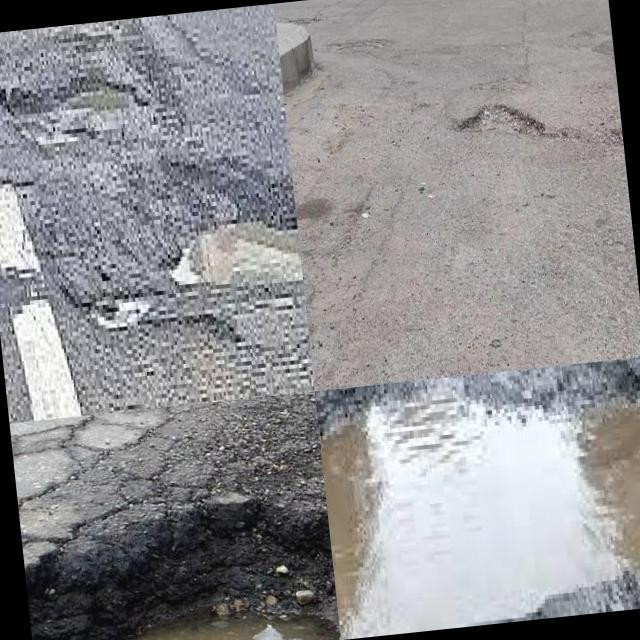Pothole: (319, 404, 640, 640), (25, 504, 341, 640), (174, 221, 303, 289), (455, 97, 544, 136)
